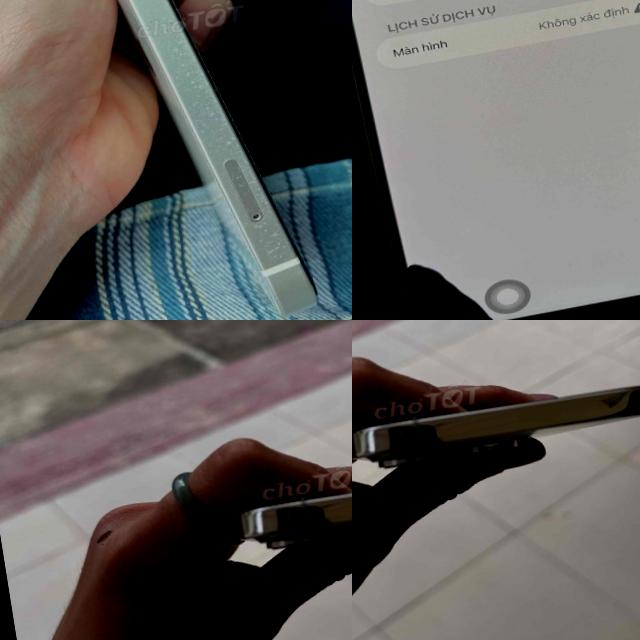gen_12_13: (117, 0, 315, 315)
gen_14: (352, 0, 640, 320), (352, 356, 640, 500), (221, 437, 352, 581)
scratch: (138, 0, 310, 280)
screen_defect: (399, 253, 496, 320)
